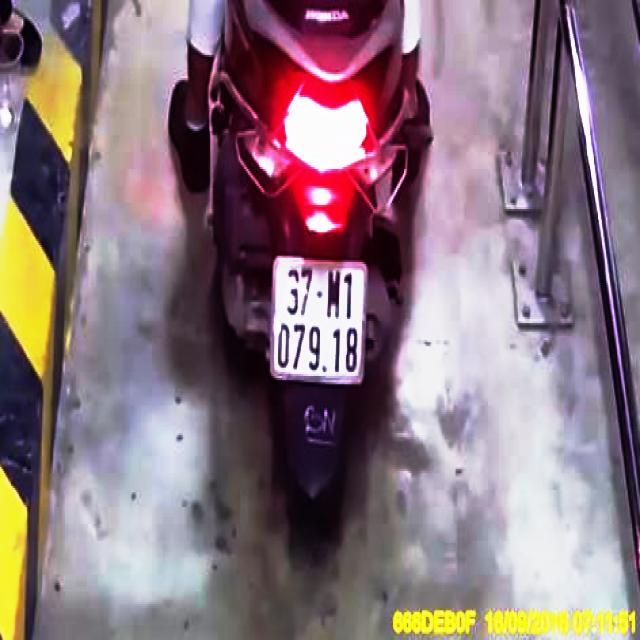license_plate: (273, 259, 369, 384)
